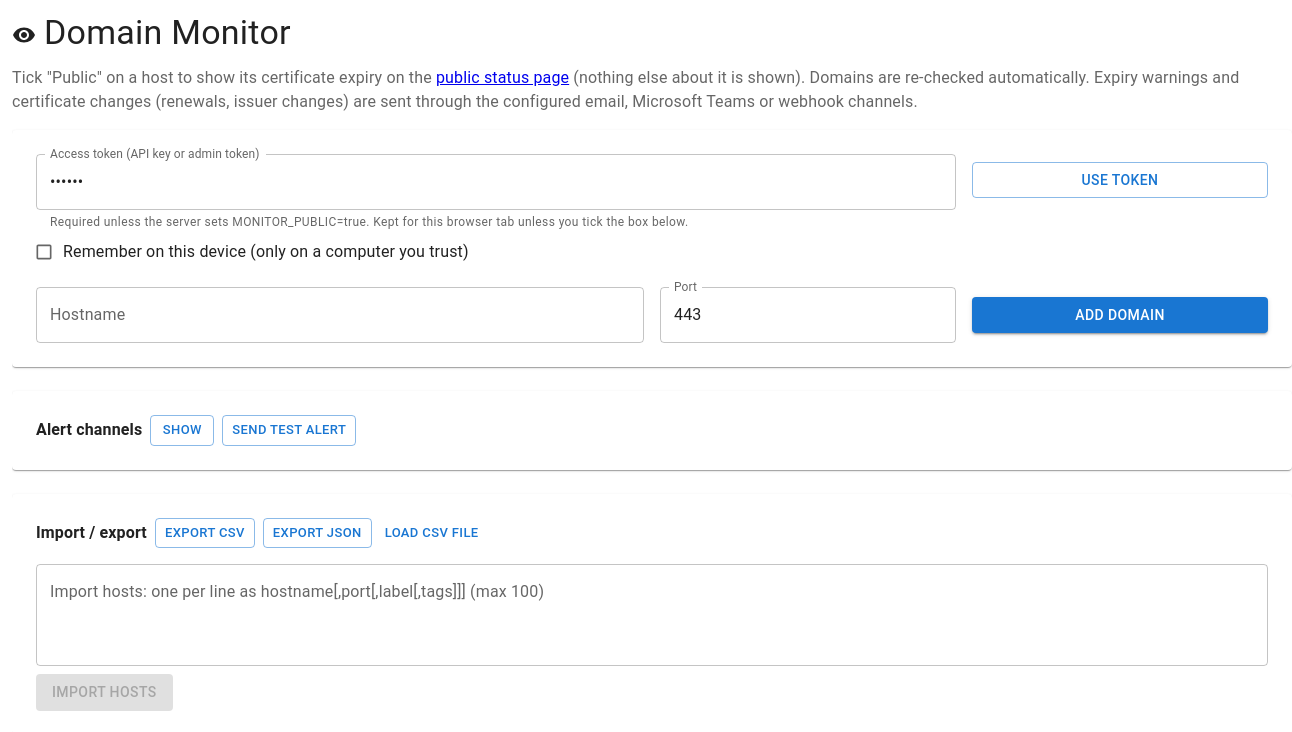
Test: shows which alert channels are configured
Click the button "Show" at (182, 430), box [150, 415, 214, 446]
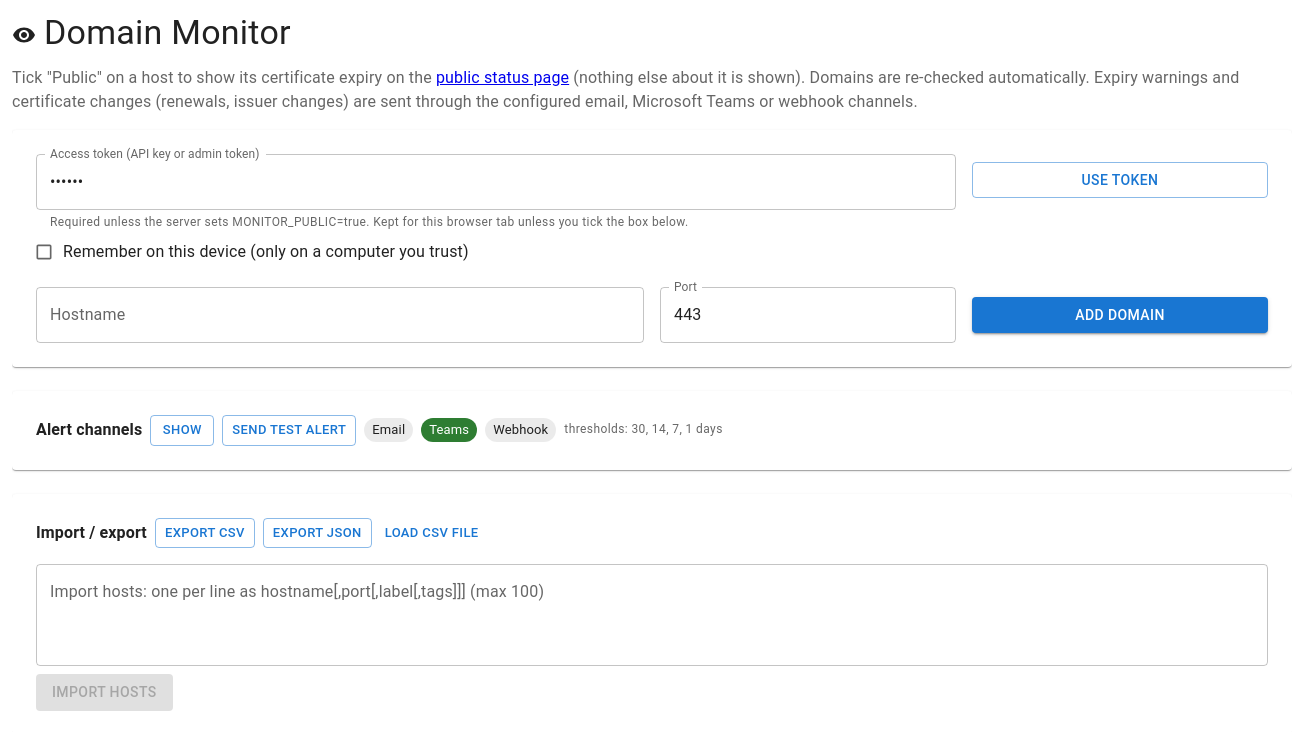
Check: the text "Teams" is shown, box [429, 422, 469, 437]
Check: the text "thresholds: 30, 14, 7, 1 days" is shown, box [564, 420, 723, 440]
